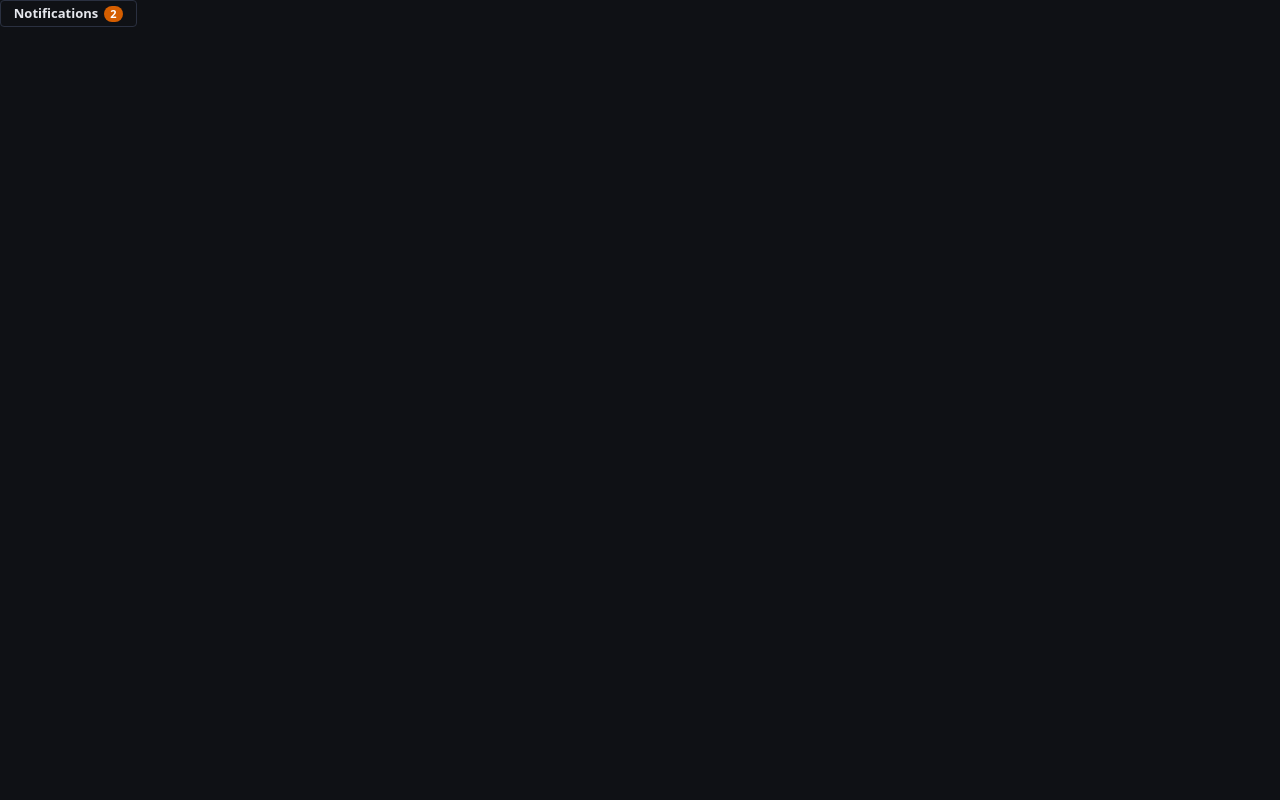
Test case: notifications › shows a badge, lists items with provenance and marks them read on open
Expected: the text with test id "notification-badge" reads "2", [110, 6, 116, 21]
Click the button with aria-label "Notifications, 2 unread".
click(68, 14)  # box [0, 0, 137, 27]
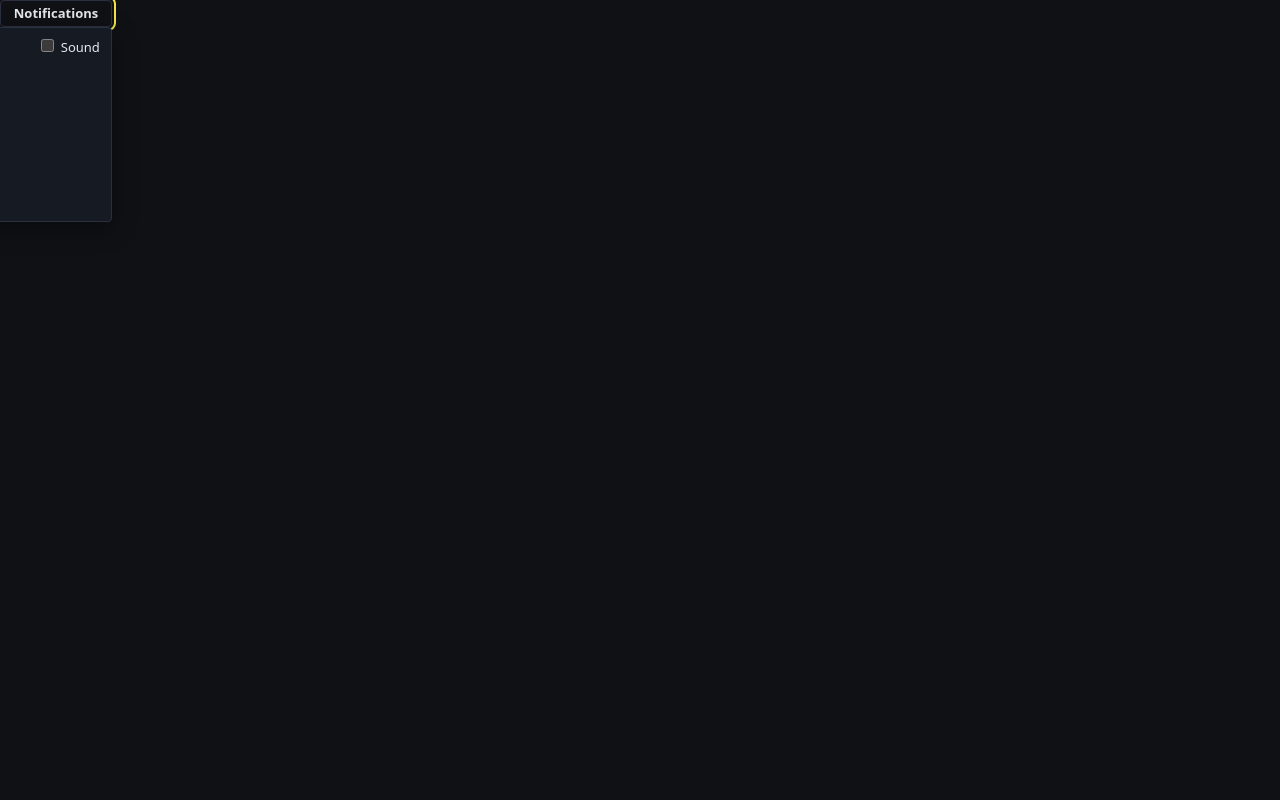
Expected: the text with test id "notification-badge" is gone
